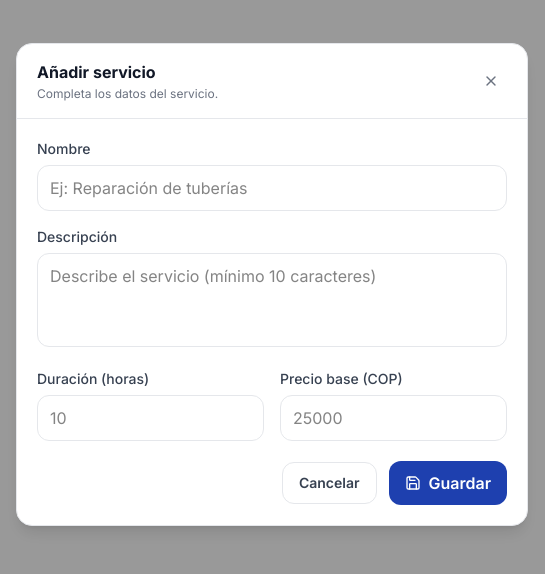
Scenario: ServiceModal › validaciones › error si la descripción tiene menos de 10 caracteres
Step 1. Type "Nombre OK" into the field with placeholder "Ej: Reparación de tuberías" → (272, 188), box [37,164,507,210]
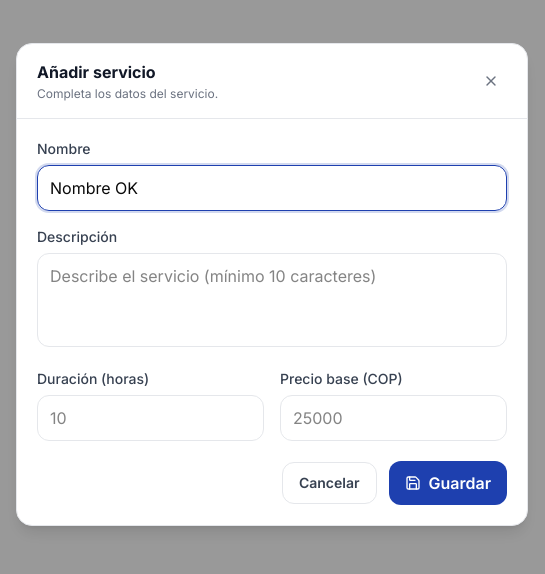
Step 2. Type "Corta" into the text box with placeholder "Describe el servicio (mínimo 10 caracteres)" → (272, 300), box [37,252,507,346]
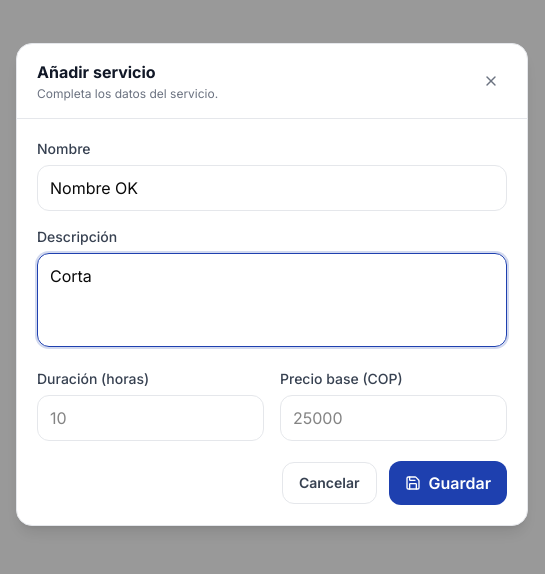
Step 3. Type "5" into the number field with placeholder "10" → (150, 418), box [37,394,264,440]
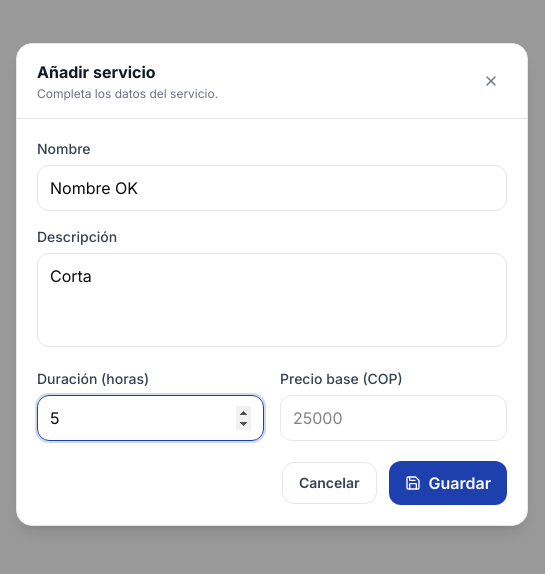
Step 4. Type "20000" into the number field with placeholder "25000" → (394, 418), box [280,394,507,440]
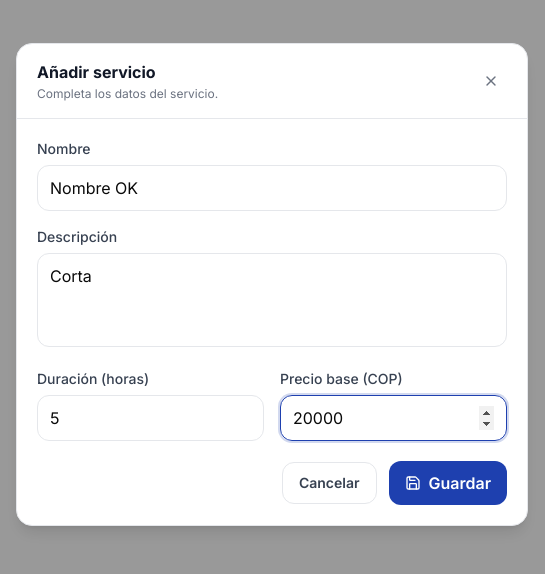
Step 5. Click the button "Guardar" → click(448, 482), box [388,460,507,504]
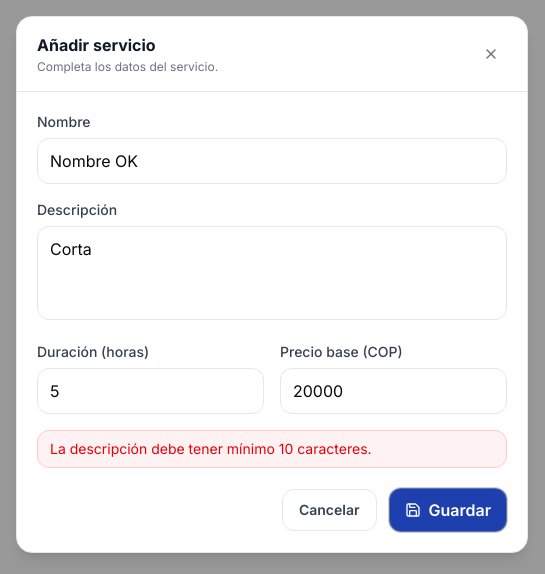
Now the message reads "La descripción debe tener mínimo 10 caracteres.", box [50,440,372,456]
